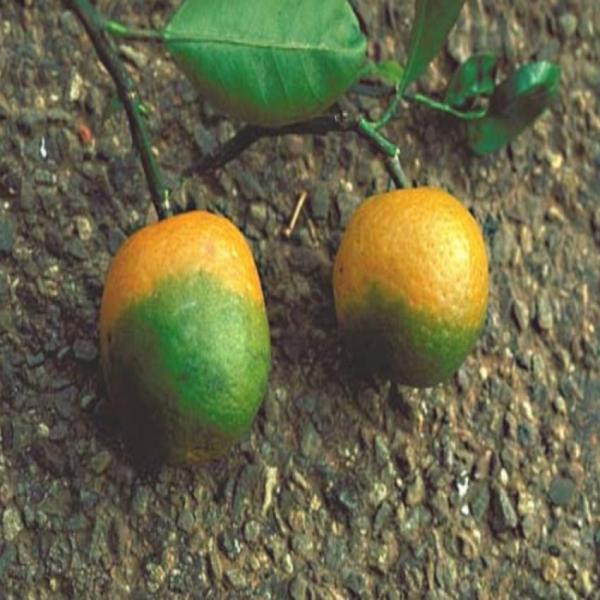Greening: (91, 201, 280, 464), (322, 169, 506, 401)
